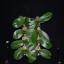leaf: (38, 30, 50, 43), (38, 12, 52, 23), (38, 49, 52, 59), (10, 40, 25, 49), (13, 18, 25, 28), (13, 29, 25, 39), (24, 50, 36, 60), (38, 40, 52, 48), (27, 40, 38, 50), (31, 30, 39, 43), (14, 50, 24, 60), (27, 28, 38, 37), (27, 20, 39, 28), (16, 50, 24, 60), (24, 17, 31, 26), (35, 21, 39, 29), (18, 15, 25, 19), (22, 30, 26, 34), (36, 40, 39, 45)
